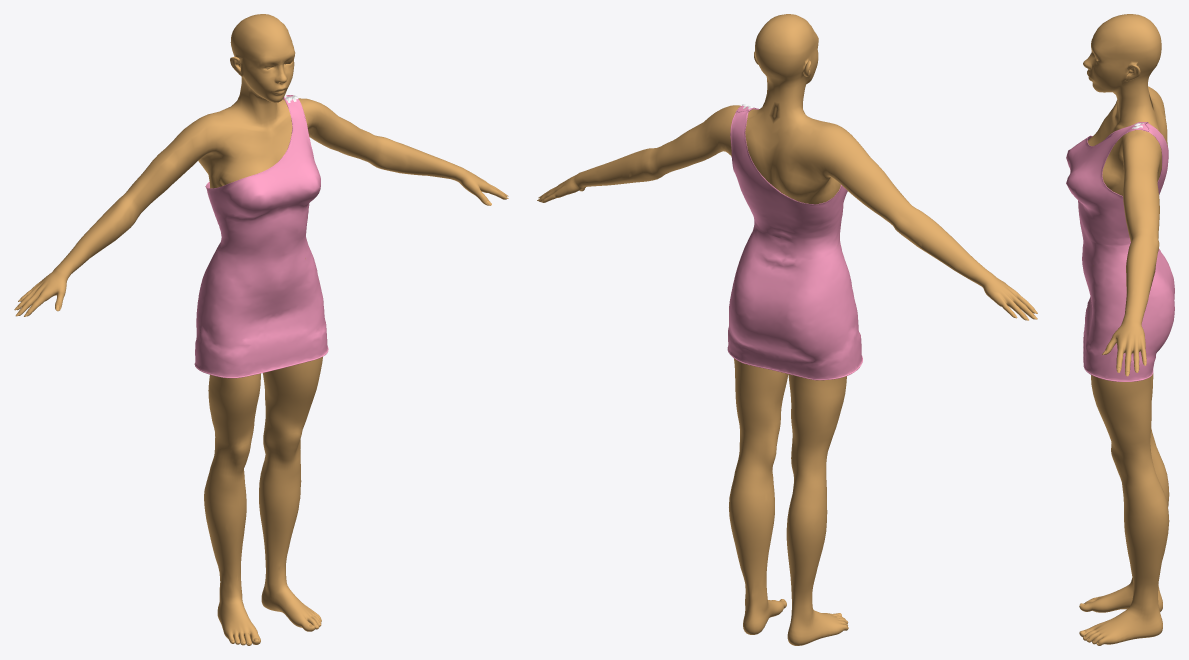
File: dress1.glb
3 renders of one model, left to right at view 1: azimuth 30°, elevation 25°; view 2: azimuth 150°, elevation 25°; view 3: azimuth 270°, elevation 25°, orthographic.
Visible parts, largest first — view 1: Body, WhiteDress; view 2: Body, WhiteDress; view 3: Body, WhiteDress.
Boxes of the visible parts, box(x1,y1,x2,y2) form: Body: box(17, 14, 507, 645); WhiteDress: box(194, 95, 328, 378); Body: box(538, 14, 1035, 645); WhiteDress: box(727, 104, 862, 380); Body: box(1079, 14, 1169, 645); WhiteDress: box(1066, 122, 1174, 381).
Bounding box in the file's own units: 1.58 × 1.85 × 0.3.
